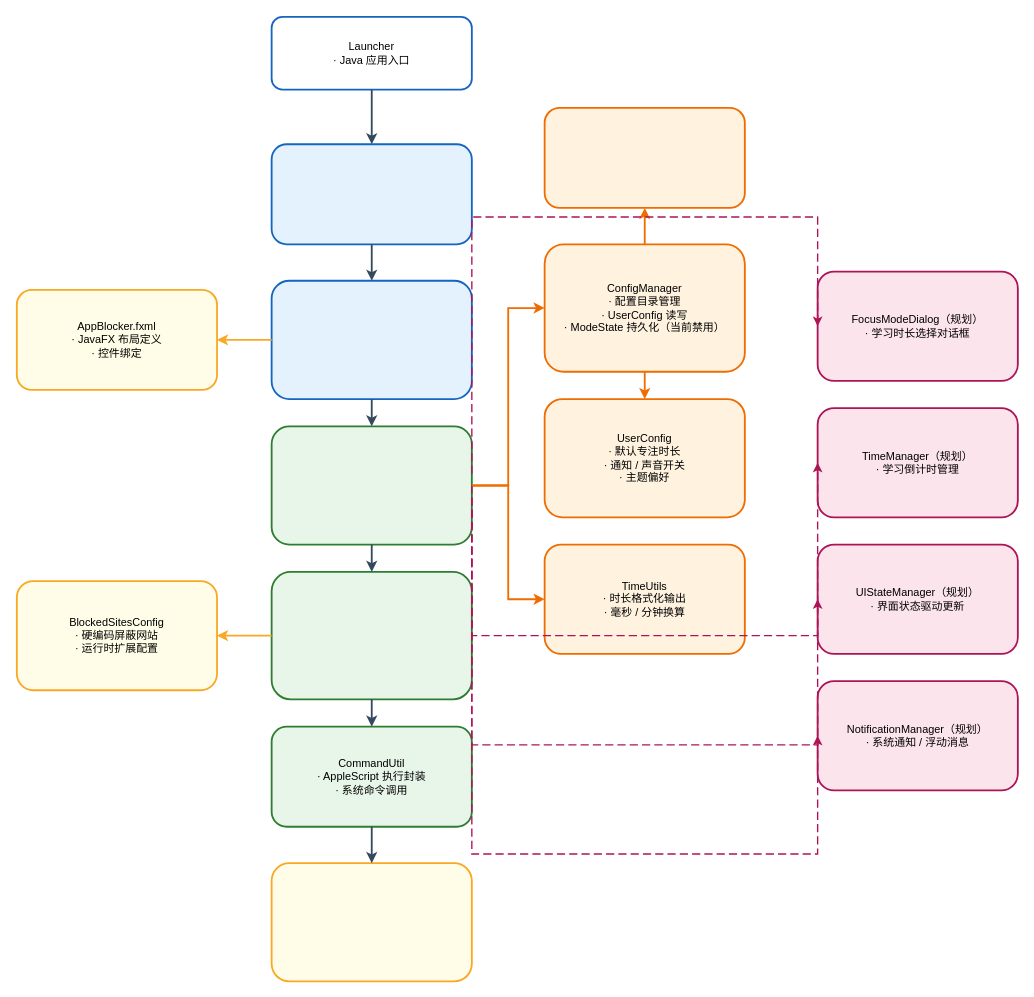
This 1034x997 diagram has some shape labels left out. Each missing label, with the centre of its shape:
AppBlocker · Edge 浏览器监控 · 用户自定义黑白名单 · 硬编码违规站点阻断: the point at 371,635
AppBlockerController · 创建 ModeManager / AppBlocker · 监听模式变化并更新 UI · 输出运行日志: the point at 371,339
AppConfig · 配置文件路径常量 · 时间 / 监控常量设置: the point at 644,157
macOS / Edge 控制 · 获取前台应用 · Edge 标签操作 · 关闭干扰浏览器: the point at 371,922
Main (JavaFX Application) · 初始化 JavaFX 平台 · 加载 AppBlocker.fxml: the point at 371,194
ModeManager · 模式切换管理 · 学习模式计时 · 17:00 自动切回普通模式: the point at 371,485
